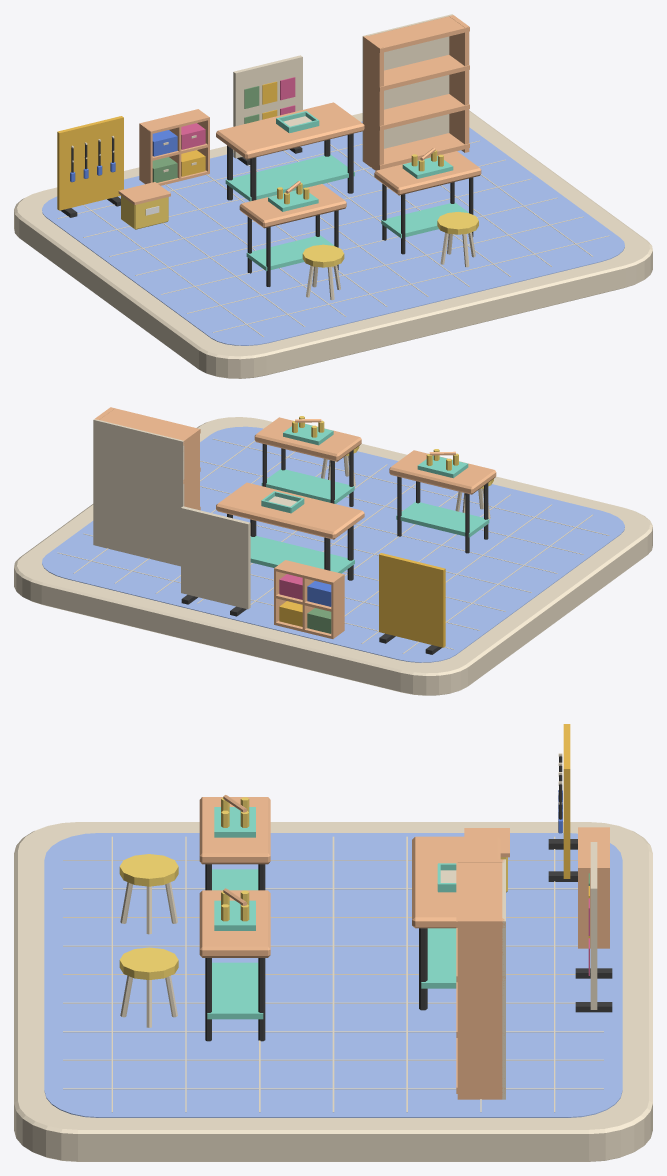
3 renders of one model, top to bottom at view 1: azimuth 30°, elevation 25°; view 2: azimuth 150°, elevation 25°; view 3: azimuth 270°, elevation 25°, orthographic. The views are drawn at different scales.
Visible parts, largest first — view 1: COM-02 Floor Surface, COM-01 Rounded Base Direct, Panel, Back, Worktop.002, Panel.001, Lower shelf.002, Side, Worktop.001, Worktop, Side.001, Shelf.003 (+18 smaller); view 2: COM-02 Floor Surface, COM-01 Rounded Base Direct, Back, Panel.001, Panel, Worktop.002, Worktop, Worktop.001, Lower shelf.002, Lower shelf, Lower shelf.001, Shelf.003 (+10 smaller); view 3: COM-02 Floor Surface, COM-01 Rounded Base Direct, Side.001, Worktop.002, Worktop, Worktop.001, Shelf.003, Lower shelf.001, Cubbies divider.002, Lower shelf.002, Seat, Seat.001 (+17 smaller).
Part boxes in pixels (<box>): COM-02 Floor Surface: <box>42,121,624,345</box>; COM-01 Rounded Base Direct: <box>14,110,652,378</box>; Panel: <box>57,116,123,210</box>; Back: <box>362,14,452,161</box>; Worktop.002: <box>216,102,364,159</box>; Panel.001: <box>233,55,302,158</box>; Lower shelf.002: <box>225,154,354,201</box>; Side: <box>363,35,383,170</box>; Worktop.001: <box>374,151,481,195</box>; Worktop: <box>239,184,346,228</box>; Side.001: <box>449,15,469,152</box>; Shelf.003: <box>367,16,469,53</box>; COM-02 Floor Surface: <box>42,426,624,662</box>; COM-01 Rounded Base Direct: <box>14,417,652,695</box>; Back: <box>93,419,184,566</box>; Panel.001: <box>181,506,250,609</box>; Panel: <box>379,553,445,647</box>; Worktop.002: <box>216,482,364,539</box>; Worktop: <box>389,450,496,494</box>; Worktop.001: <box>254,417,361,461</box>; Lower shelf.002: <box>250,536,354,573</box>; Lower shelf: <box>396,501,489,537</box>; Lower shelf.001: <box>261,469,354,503</box>; Shelf.003: <box>100,407,200,445</box>; COM-02 Floor Surface: <box>44,833,622,1117</box>; COM-01 Rounded Base Direct: <box>14,822,652,1161</box>; Side.001: <box>457,918,504,1099</box>; Worktop.002: <box>412,836,500,928</box>; Worktop: <box>199,797,270,864</box>; Worktop.001: <box>199,890,270,957</box>; Shelf.003: <box>456,859,505,927</box>; Lower shelf.001: <box>207,962,263,1019</box>; Cubbies divider.002: <box>578,868,609,948</box>; Lower shelf.002: <box>421,928,456,988</box>; Seat: <box>119,854,178,886</box>; Seat.001: <box>119,947,178,979</box>.
Size of the model in its own units: 6 by 1.9 by 5.2.
Materials: 1 (1 with a texture image).
